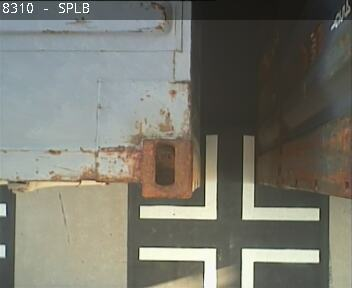groundmarker_1: (138, 136, 319, 222), (140, 247, 320, 288)
